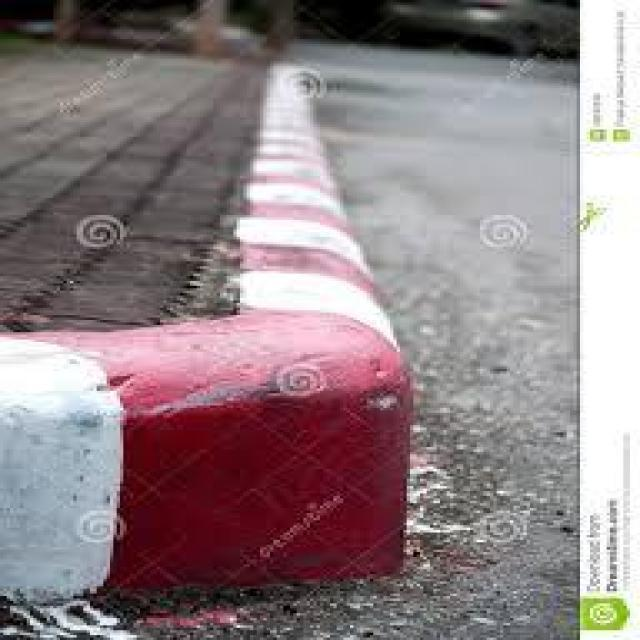curb: (18, 328, 411, 613), (248, 60, 379, 342)
